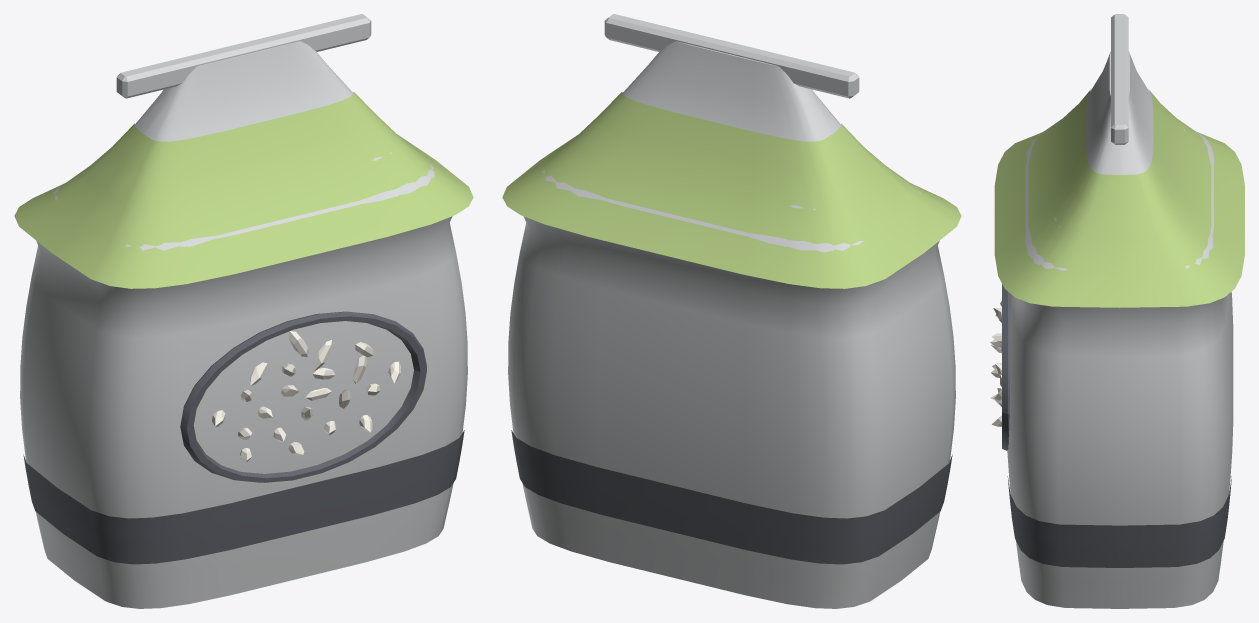
File: fresh-produce-and-groceries-rice-bag-48d1e5ba__24424.glb
3 views of the same model, side by side, from view 1: azimuth 30°, elevation 25°; view 2: azimuth 150°, elevation 25°; view 3: azimuth 270°, elevation 25° (orthographic). The views are drawn at different scales.
Parts seen in each view (by area): view 1: rice-bag; view 2: rice-bag; view 3: rice-bag.
Part boxes in pixels (<box>): rice-bag: <box>14,14,473,608</box>; rice-bag: <box>502,14,961,608</box>; rice-bag: <box>990,14,1244,608</box>.
Bounding box in the file's own units: 0.164 × 0.202 × 0.1009.
